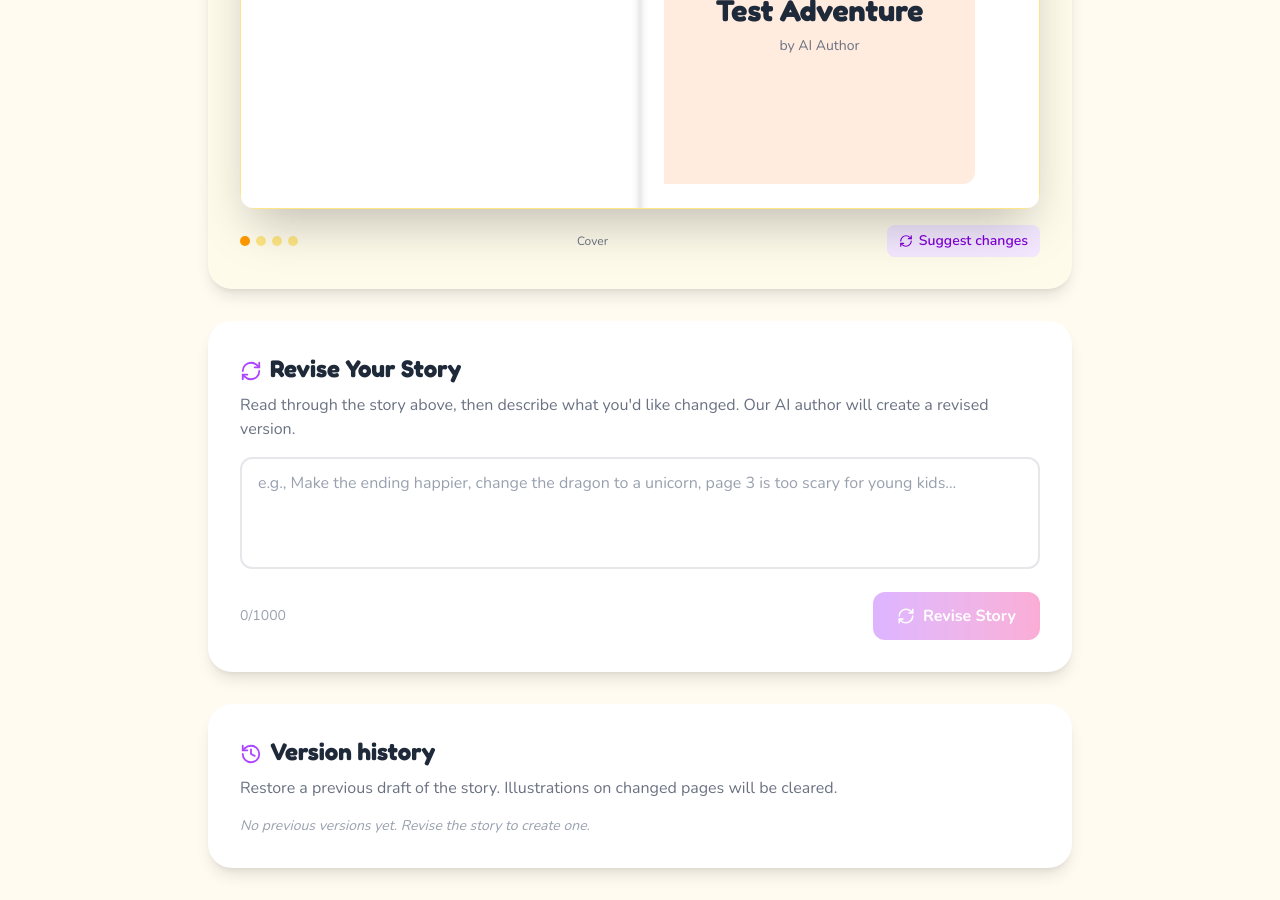
BookDetail — Post-revise comparison modal › shows a banner after revise and opens a side-by-side modal comparing v1 and v2 page text
(page scrolled)
Expected: the button "Revise Story" is shown, [873,592,1040,640]
Expected: the text "see what changed" is not shown
Type feedback and submit the revise call.
Replace the text in the text box with placeholder "Make the ending happier" with "Make it funnier" at [640, 513], box [240,457,1040,569]
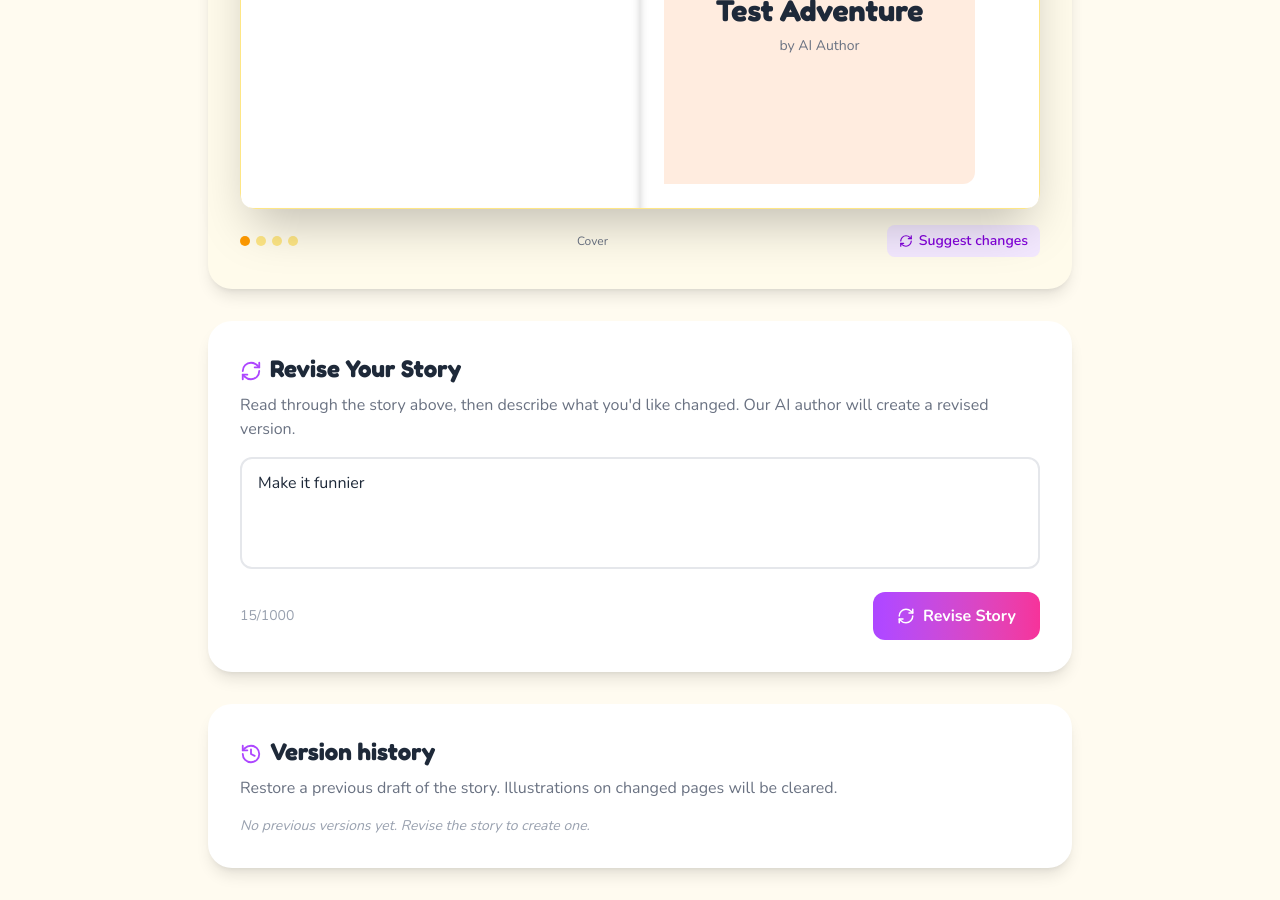
Click the button "Revise Story" at [956, 616], box [873,592,1040,640]
(page scrolled)
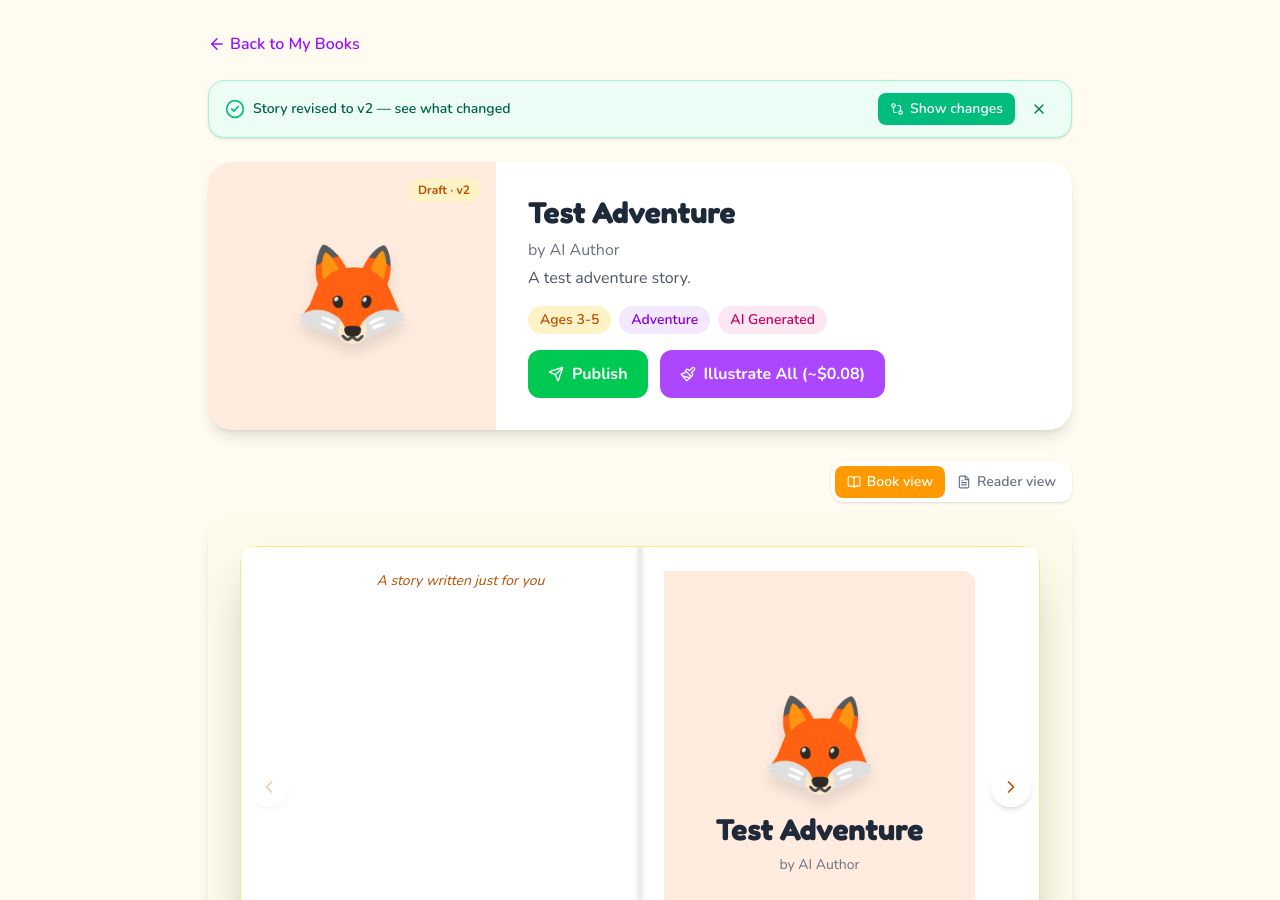
Result: the text "Story revised to v2 — see what changed" is shown at [253,99,510,119]
Wait for the "Show changes" button to be ready (versions fetch resolved).
Click the button "Show changes" at [947, 109], box [878,93,1015,125]
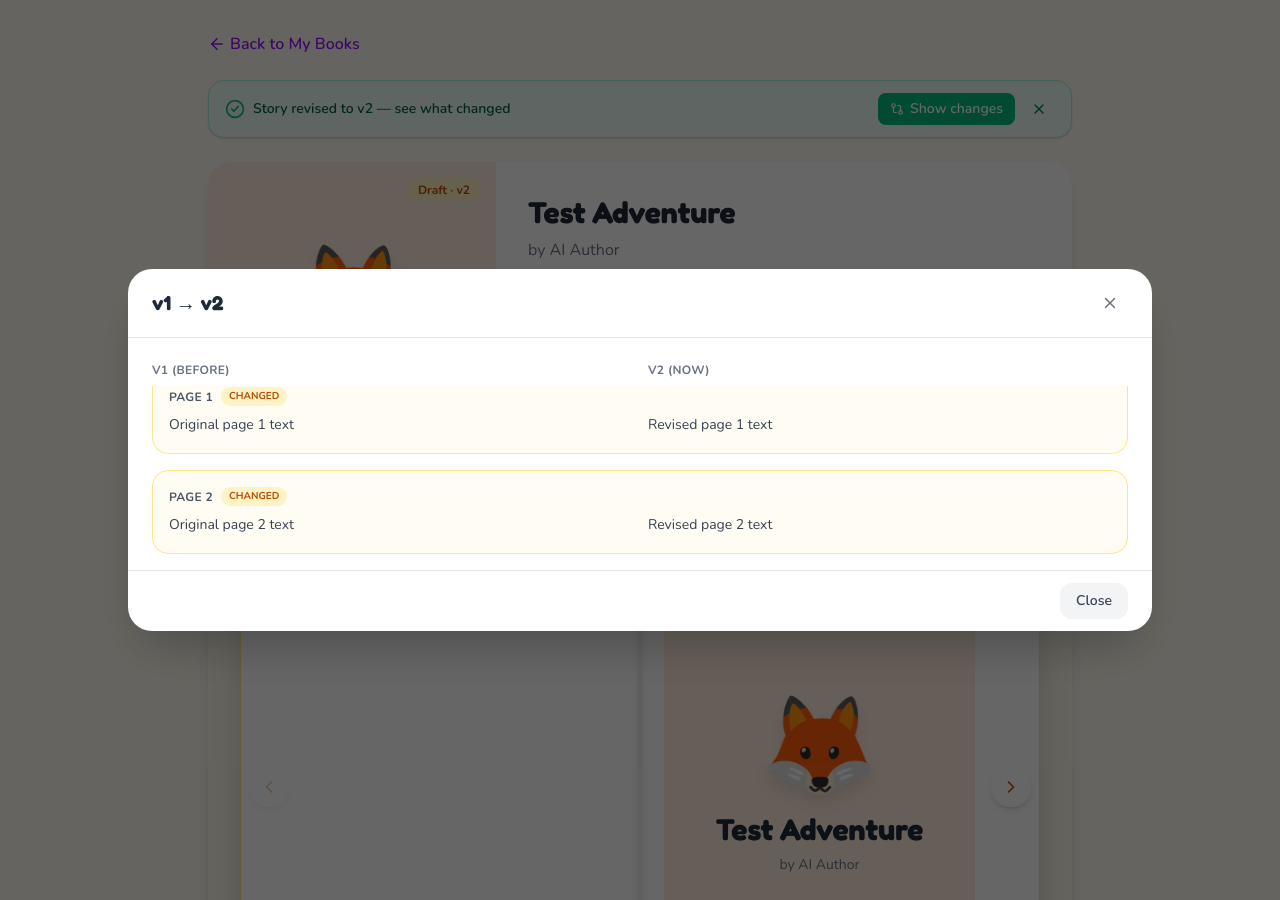
Result: the dialog is shown
Result: the heading "v1 → v2" is shown at [152,289,223,317]
Result: the text "Original page 1 text" is shown at [169,415,294,434]
Dismiss the modal via the Close button.
Click the button "Close" at [1094, 601], box [1060,583,1128,619]
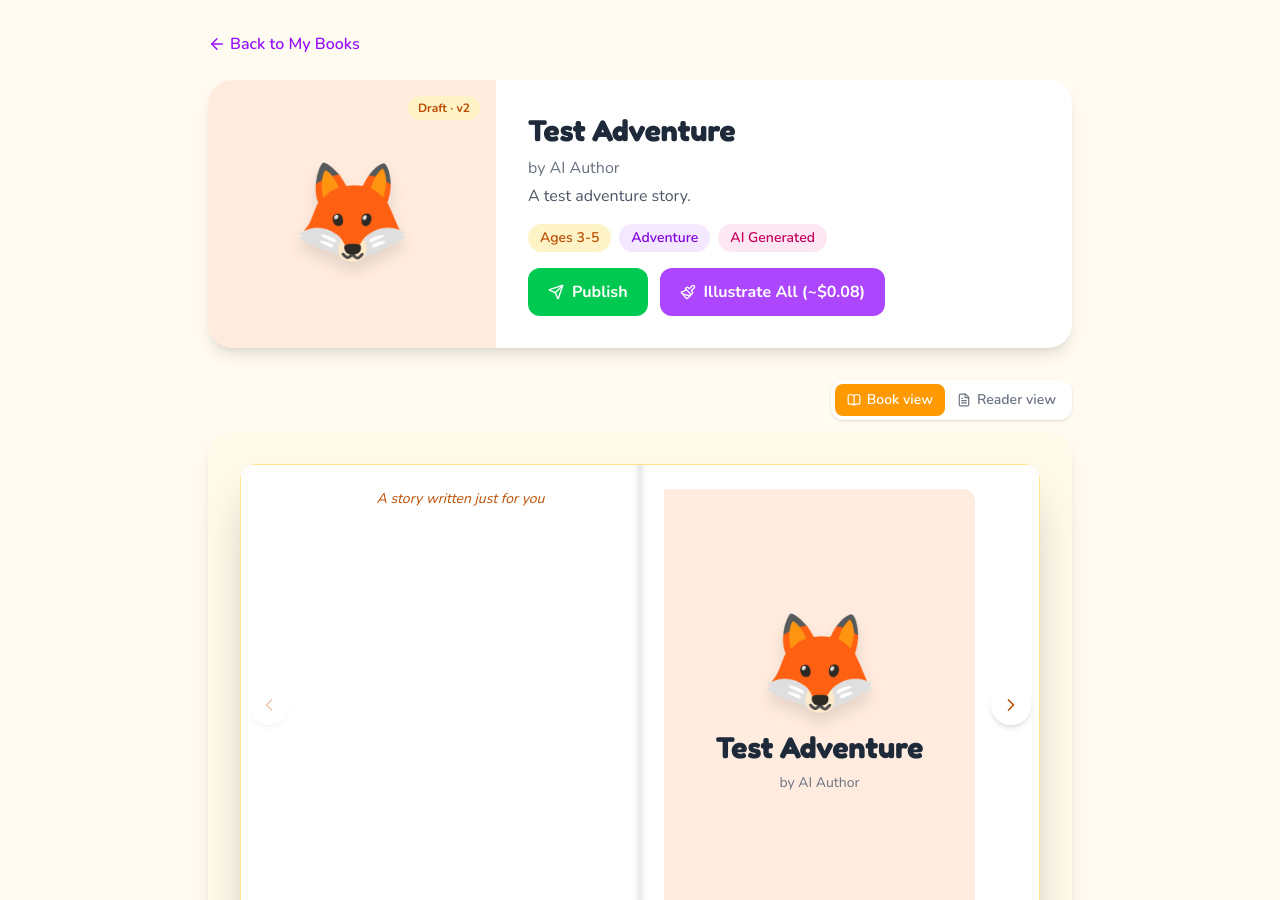
Result: the dialog is gone
Result: the text "see what changed" is gone
